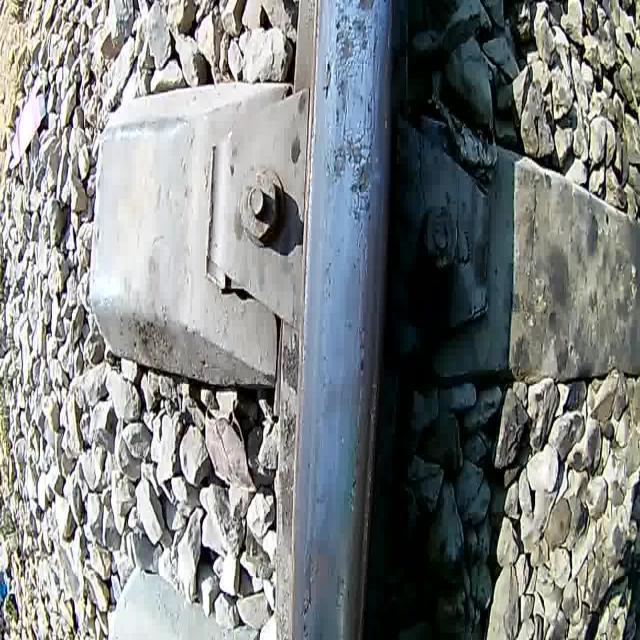Cracks: (297, 539, 318, 640)
Spallings: (320, 50, 333, 112)
Squats: (316, 0, 386, 247), (292, 530, 352, 640)
